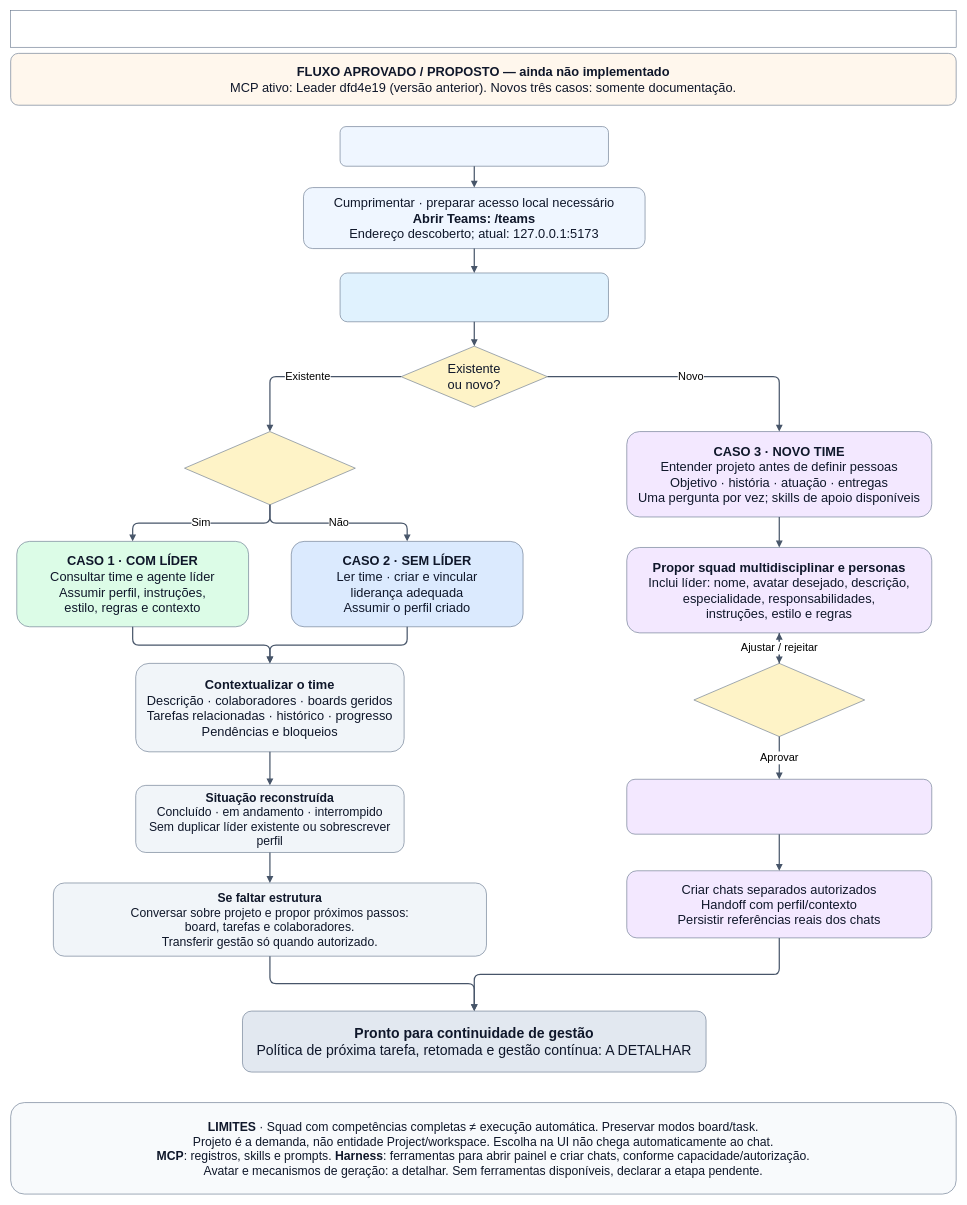
Image size: 967x1205. Some labels were removed from this diagram. Here are the shapes that lost their labels. From the top down, the box of each, then its label:
(10, 10, 956, 47): Bee Team Leader · três fluxos de entrada
(339, 126, 608, 166): Usuário invoca Leader no chat
(339, 272, 608, 322): Usuário escolhe na interface e informa no chat
(184, 431, 355, 505): Time existente: tem líder?
(693, 663, 865, 737): Usuário revisa e aprova?
(626, 779, 932, 834): Após aprovação concreta Cadastrar agentes, time e vínculos
